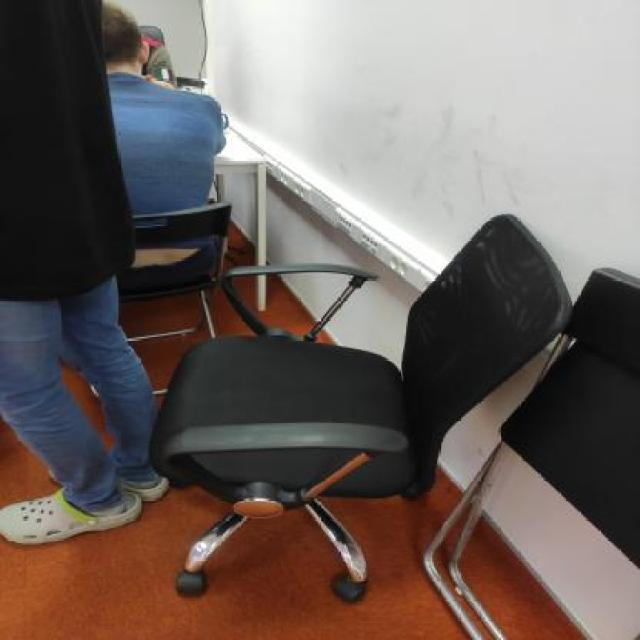chair: (151, 200, 574, 602)
